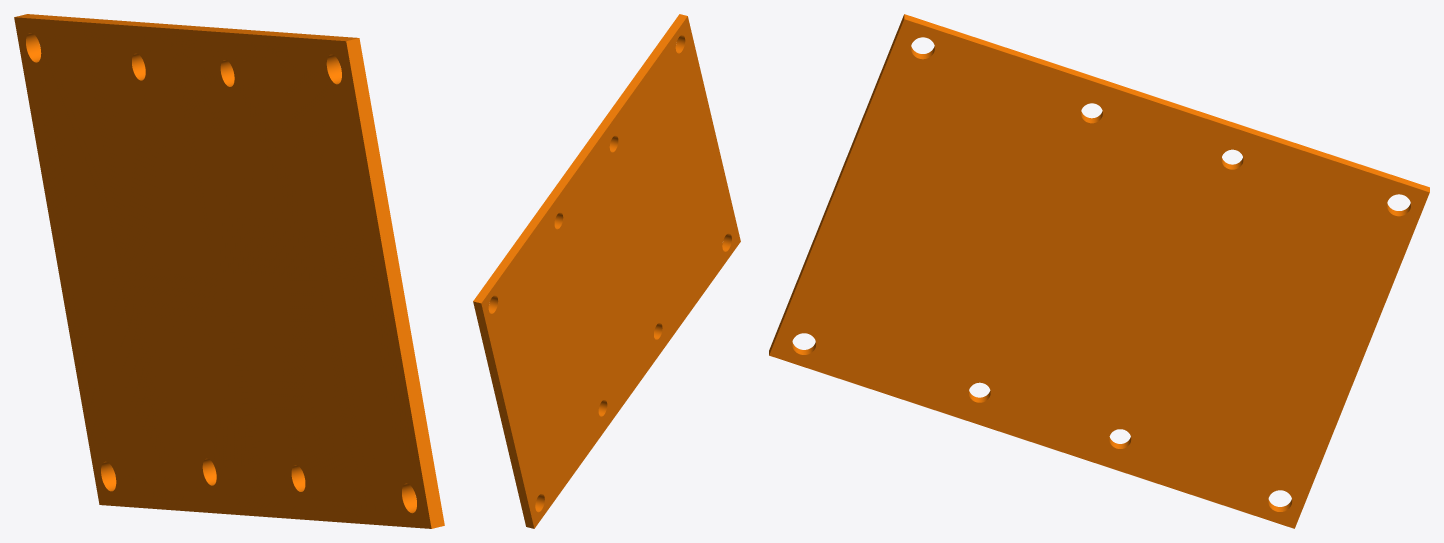
The model's file is EBoxNewAsm_stp_1_IMC413_1_stp_1_IMC413_1_43_stp_1_solid1.obj.
3 renders of one model, left to right at view 1: azimuth 30°, elevation 25°; view 2: azimuth 150°, elevation 25°; view 3: azimuth 270°, elevation 25°, orthographic. The views are drawn at different scales.
Parts seen in each view (by area): view 1: mesh4711, mesh4714, mesh4713; view 2: mesh4711, mesh4713, mesh4712; view 3: mesh4710, mesh4713, mesh4714.
Boxes of the visible parts, x1,y1,x2,y2 form: mesh4711: [14, 17, 431, 528]; mesh4714: [346, 38, 444, 528]; mesh4713: [14, 14, 358, 41]; mesh4711: [481, 16, 740, 528]; mesh4713: [473, 14, 687, 303]; mesh4712: [473, 301, 534, 528]; mesh4710: [769, 19, 1429, 528]; mesh4713: [904, 14, 1429, 192]; mesh4714: [769, 14, 904, 355].
Bounding box in the file's own units: 0.0016 × 0.074 × 0.087.
